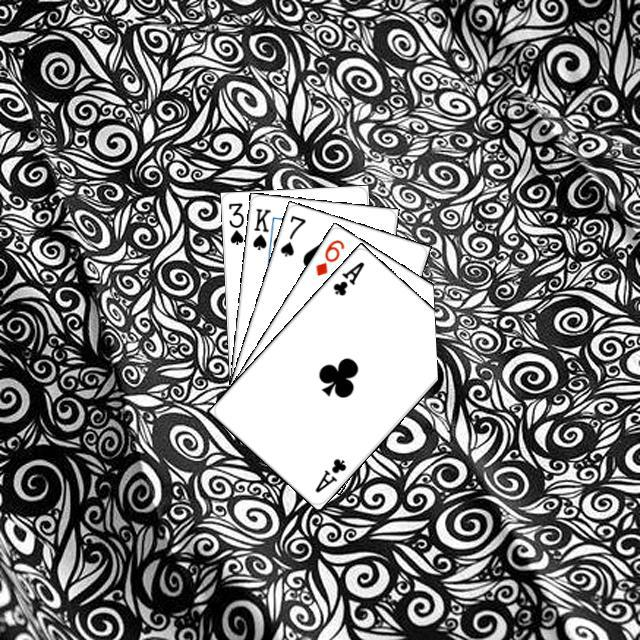3s: (224, 198, 245, 247)
6d: (310, 234, 346, 278)
7s: (275, 210, 307, 258)
Ac: (328, 256, 366, 298), (310, 453, 348, 494)
Ks: (248, 203, 272, 252)
